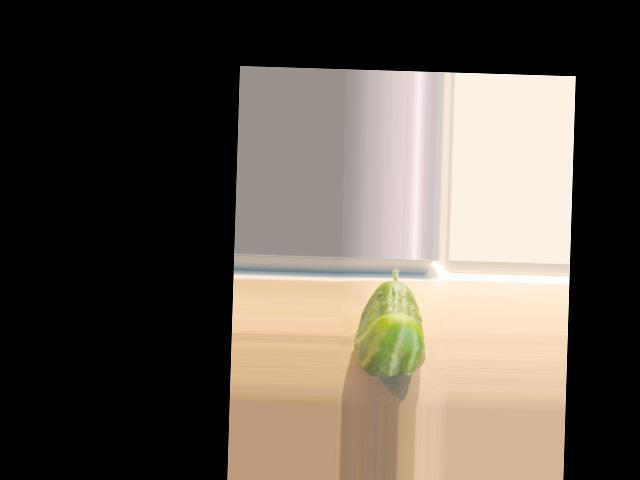cucumber: (354, 267, 428, 378)
